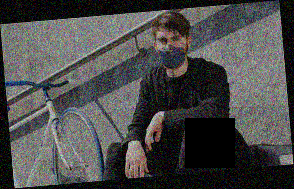with_mask: (156, 34, 188, 69)
